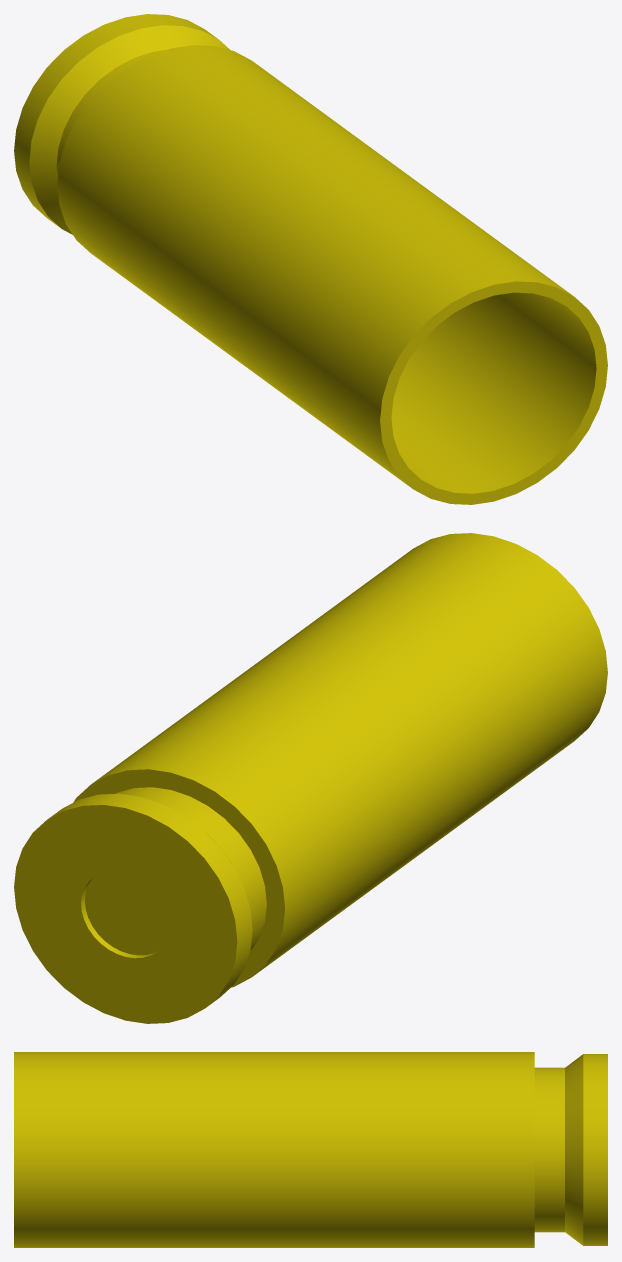
Rendered from BulletShell.fbx.
3 renders of one model, top to bottom at view 1: azimuth 30°, elevation 25°; view 2: azimuth 150°, elevation 25°; view 3: azimuth 270°, elevation 25°, orthographic. The views are drawn at different scales.
Parts seen in each view (by area): view 1: Cylinder.005; view 2: Cylinder.005; view 3: Cylinder.005.
Part boxes in pixels (x1=…): Cylinder.005: x1=14, y1=14, x2=607, y2=504; Cylinder.005: x1=14, y1=533, x2=607, y2=1023; Cylinder.005: x1=14, y1=1052, x2=607, y2=1247.
Bounding box in the file's own units: 3.47 × 3.15 × 9.7.
